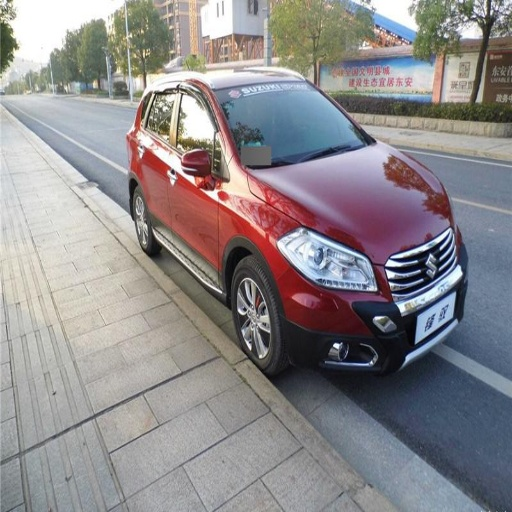front_bumper: (276, 260, 461, 370)
front_right_door: (172, 82, 221, 284)
front_right_light: (278, 224, 378, 294)
